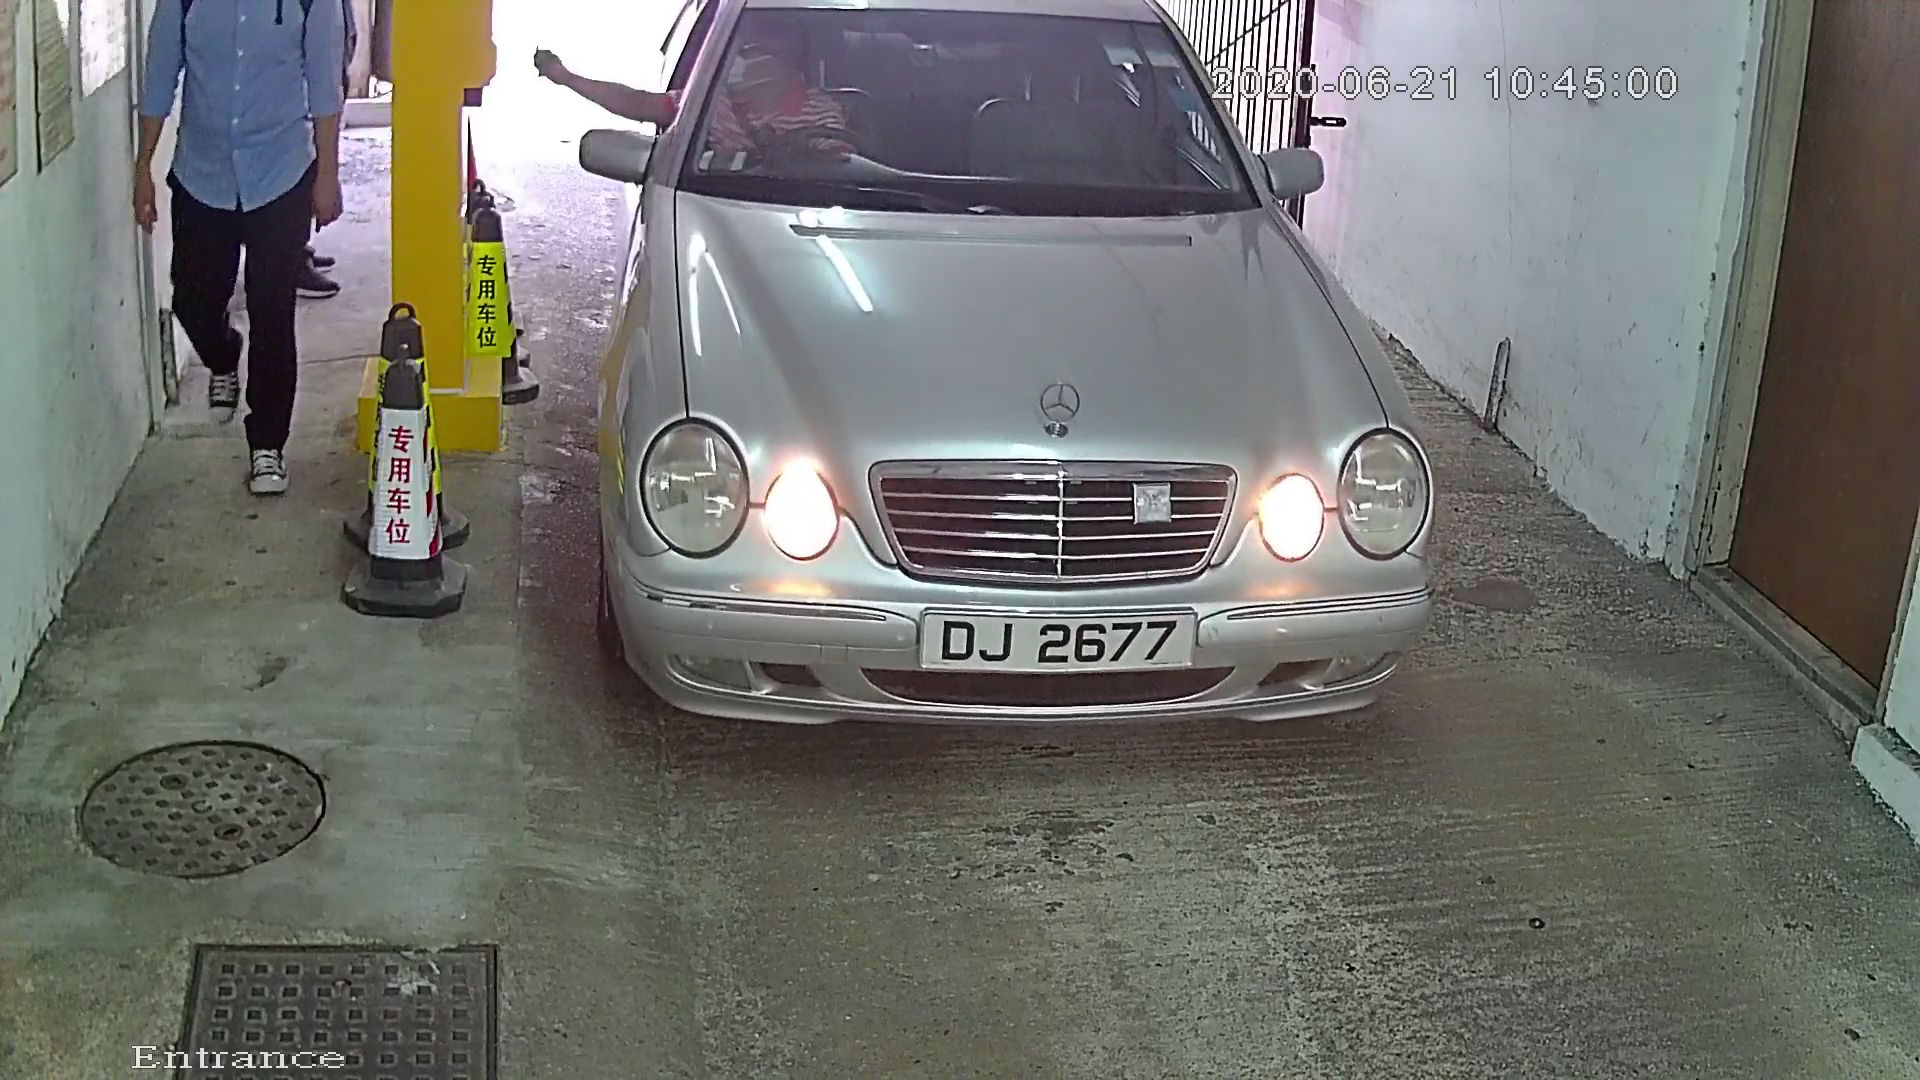privatecar: (513, 3, 1439, 764)
